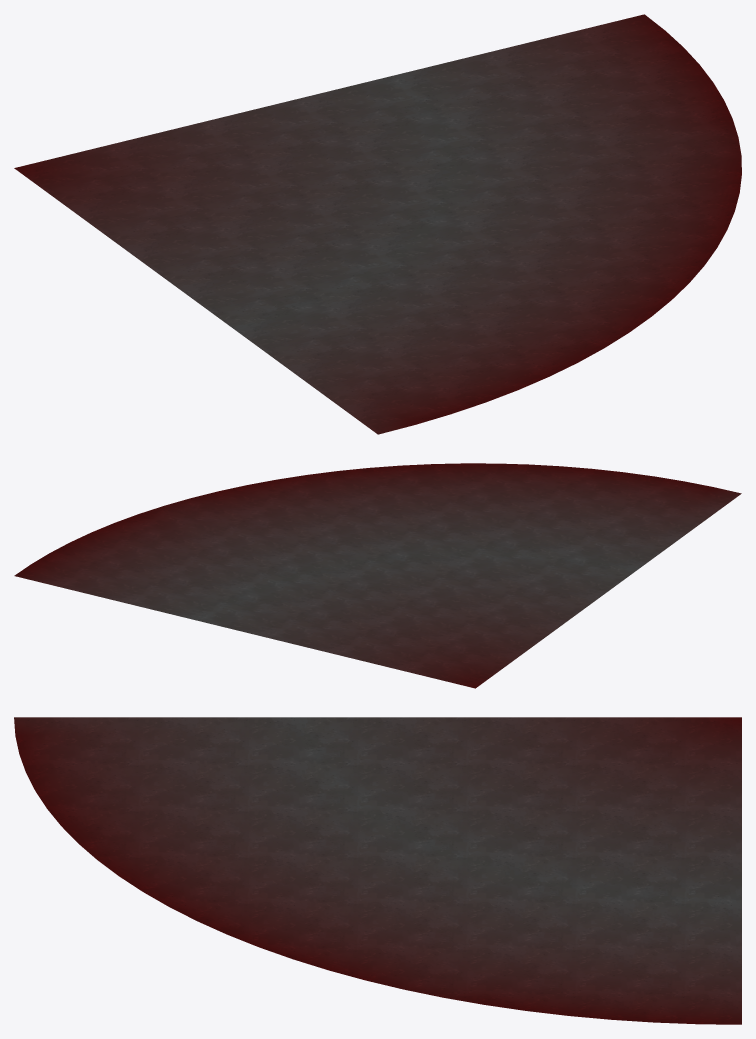
Rendered from Street_Asphalt_Curve_4Lane_Long.gltf.
The picture shows the model from 3 angles, top to bottom: view 1: azimuth 30°, elevation 25°; view 2: azimuth 150°, elevation 25°; view 3: azimuth 270°, elevation 25°; orthographic projection. The views are drawn at different scales.
Visible parts, largest first — view 1: Street_Asphalt_Curve_4Lane_Long; view 2: Street_Asphalt_Curve_4Lane_Long; view 3: Street_Asphalt_Curve_4Lane_Long.
Part boxes in pixels (box(x1,y1,x2,y2)): Street_Asphalt_Curve_4Lane_Long: box(14, 14, 741, 434); Street_Asphalt_Curve_4Lane_Long: box(14, 463, 741, 688); Street_Asphalt_Curve_4Lane_Long: box(14, 717, 741, 1024).
Size of the model in its own units: 20 by 0 by 20.
1 material, 1 textured.
